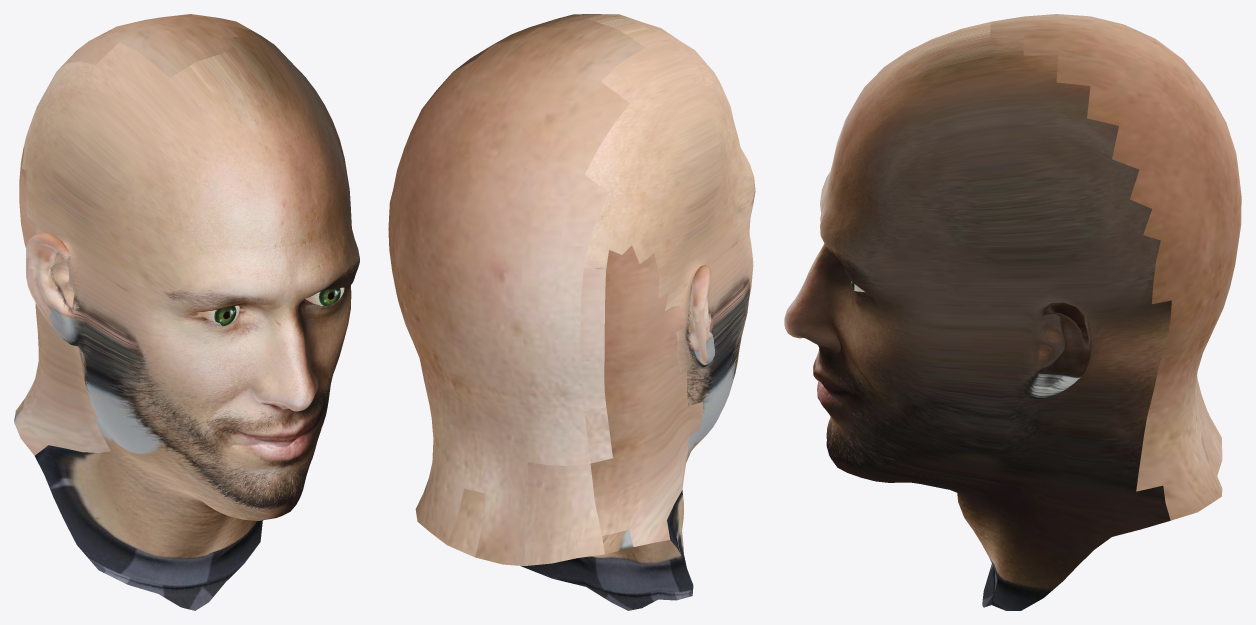
3 renders of one model, left to right at view 1: azimuth 30°, elevation 25°; view 2: azimuth 150°, elevation 25°; view 3: azimuth 270°, elevation 25°, orthographic. The views are drawn at different scales.
Visible parts, largest first — view 1: man_body_0014_uv_map_man_body_0014_uv_map.001, Icosphere; view 2: man_body_0014_uv_map_man_body_0014_uv_map.001; view 3: man_body_0014_uv_map_man_body_0014_uv_map.001.
Part boxes in pixels (box(x1,y1,x2,y2)): man_body_0014_uv_map_man_body_0014_uv_map.001: box(14, 14, 359, 610); Icosphere: box(197, 305, 239, 326); man_body_0014_uv_map_man_body_0014_uv_map.001: box(388, 14, 755, 610); man_body_0014_uv_map_man_body_0014_uv_map.001: box(784, 14, 1241, 610).
Bounding box in the file's own units: 4.62 × 8.51 × 5.98.
2 materials, 2 textured.
